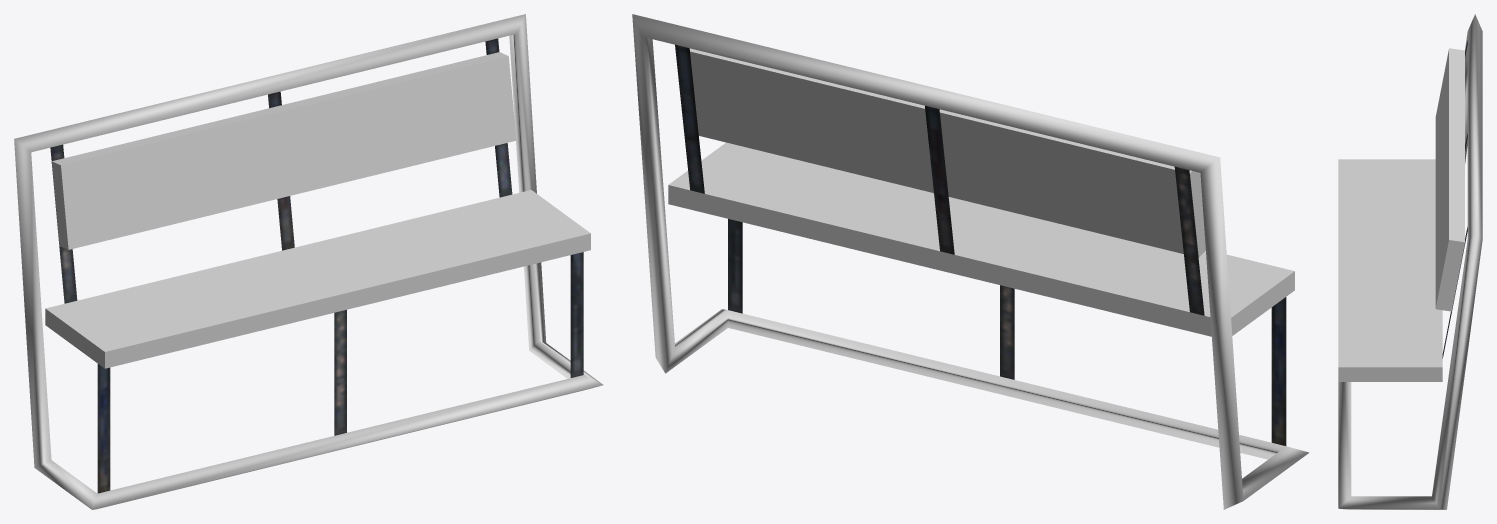
File: Bench.fbx
The picture shows the model from 3 angles, left to right: view 1: azimuth 30°, elevation 25°; view 2: azimuth 150°, elevation 25°; view 3: azimuth 270°, elevation 25°; orthographic projection. The views are drawn at different scales.
Visible parts, largest first — view 1: Bench, BenchExtra; view 2: Bench, BenchExtra; view 3: Bench, BenchExtra.
Part boxes in pixels (bbox=[...]): Bench: bbox=[14, 14, 603, 509]; BenchExtra: bbox=[50, 38, 583, 493]; Bench: bbox=[632, 14, 1309, 509]; BenchExtra: bbox=[675, 44, 1286, 445]; Bench: bbox=[1338, 14, 1482, 509]; BenchExtra: bbox=[1442, 40, 1467, 358].
Size of the model in its own units: 80 by 48.06 by 22.27.
